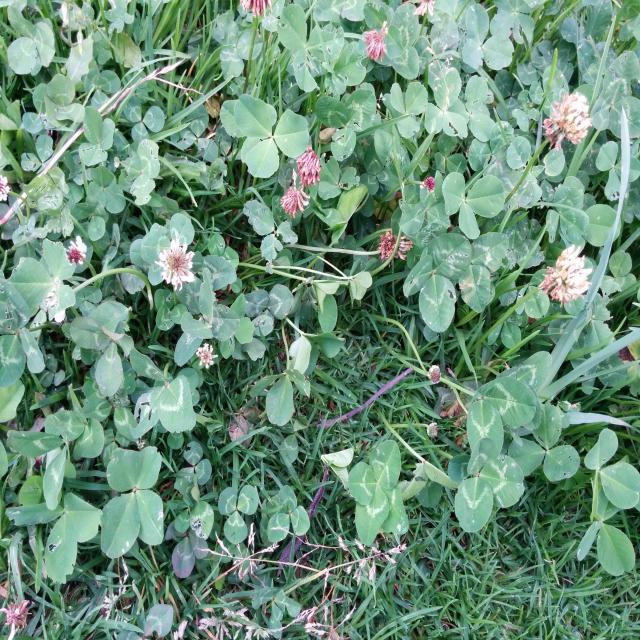Four Leaf Clover: (101, 446, 164, 558), (347, 439, 409, 545)
